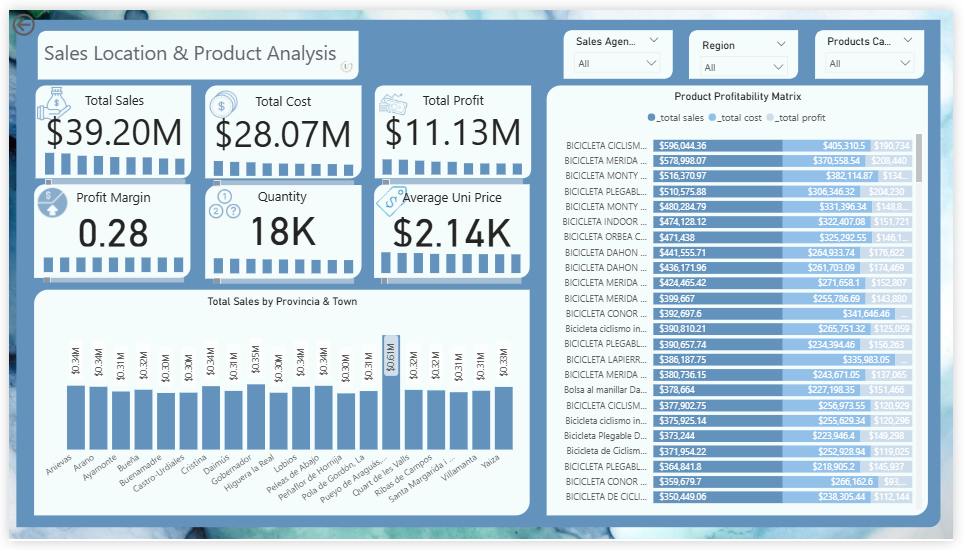

This screenshot's page, from the dashboard's own definition file:
{"tool":"powerbi","page":{"name":"Page 1","canvas":[1280,720],"ordinal":0},"visuals":[{"type":"textbox","box":[42.2,33.8,427.1,59.1],"z":0},{"type":"card","title":"Total Sales","fields":{"Values":["Sales Tiendas San Martin Janu#4._total sales"]},"box":[42.2,109.8,201.5,83.2],"z":1000},{"type":"clusteredColumnChart","fields":{"Category":["Products.Products"],"Y":["Sales Tiendas San Martin Janu#4._total sales"]},"box":[43.4,179.8,200.3,62.7],"z":2000},{"type":"card","title":"Total Cost","fields":{"Values":["Sales Tiendas San Martin Janu#4._total cost"]},"box":[271.3,111.1,201.5,83.2],"z":3000},{"type":"clusteredColumnChart","fields":{"Category":["Products.Products"],"Y":["Sales Tiendas San Martin Janu#4._total cost"]},"box":[272.5,181.1,200.3,62.7],"z":4000},{"type":"card","title":"Profit Margin","fields":{"Values":["Sales Tiendas San Martin Janu#4._profit margin"]},"box":[40.6,242.4,201.5,83.2],"z":5000},{"type":"clusteredColumnChart","fields":{"Category":["Products.Products"],"Y":["Sales Tiendas San Martin Janu#4._profit margin"]},"box":[41.9,312.3,200.3,62.7],"z":6000},{"type":"card","title":"Quantity","fields":{"Values":["Sum(Sales Tiendas San Martin Janu#4.Quanttity)"]},"box":[269.9,241.3,201.5,83.2],"z":7000},{"type":"clusteredColumnChart","fields":{"Category":["Products.Products"],"Y":["Sales Tiendas San Martin Janu#4._average delayed period"]},"box":[500,313,200,62.3],"z":8000},{"type":"card","title":"Total Profit","fields":{"Values":["Sales Tiendas San Martin Janu#4._total profit"]},"box":[501,110.1,201.5,83.2],"z":9000},{"type":"clusteredColumnChart","fields":{"Category":["Products.Products"],"Y":["Sales Tiendas San Martin Janu#4._total profit"]},"box":[502.2,180.1,200.3,62.7],"z":10000},{"type":"card","title":"Average Uni Price","fields":{"Values":["Sales Tiendas San Martin Janu#4._avg unit price"]},"box":[500,242.9,201.3,83.1],"z":11000},{"type":"clusteredColumnChart","fields":{"Category":["Products.Products"],"Y":["Sum(Sales Tiendas San Martin Janu#4.Quanttity)"]},"box":[272.6,314.3,200.3,62.7],"z":12000},{"type":"slicer","fields":{"Values":["Products.Products Category"]},"box":[1096.7,29,141.2,63.9],"z":13000},{"type":"hundredPercentStackedBarChart","title":"Total Sales | Total Profit | Total cost by Products","fields":{"Category":["Products.Products"],"Y":["Sales Tiendas San Martin Janu#4._total sales","Sales Tiendas San Martin Janu#4._total cost","Sales Tiendas San Martin Janu#4._total profit"]},"box":[733.8,109.1,509.1,574],"z":14000},{"type":"slicer","fields":{"Values":["Locations.Region"]},"box":[927.8,33.8,138.7,59.1],"z":15000},{"type":"lineStackedColumnComboChart","title":"Total Sales by Provincia & Town","fields":{"Category":["Locations.Provincia","Locations.Town"],"Y":["Sales Tiendas San Martin Janu#4._total sales"]},"box":[41,387.3,659.9,296.8],"z":16000},{"type":"slicer","fields":{"Values":["Sales Agents.Sales Agent Name"]},"box":[756.4,29,137.5,63.9],"z":17000},{"type":"actionButton","box":[0,0,100,40],"z":18000}]}

Visuals, with their boxes in screenshot pixels (x1, y1, x2, y2), scaled from the page's 1280x720 canvas onto the 964x550 screenshot:
textbox: box(32, 26, 353, 71)
"Total Sales" card: box(32, 84, 184, 147)
clusteredColumnChart - Products.Products x Sales Tiendas San Martin Janu#4._total sales: box(33, 137, 184, 185)
"Total Cost" card: box(204, 85, 356, 148)
clusteredColumnChart - Products.Products x Sales Tiendas San Martin Janu#4._total cost: box(205, 138, 356, 186)
"Profit Margin" card: box(31, 185, 182, 249)
clusteredColumnChart - Products.Products x Sales Tiendas San Martin Janu#4._profit margin: box(32, 239, 182, 286)
"Quantity" card: box(203, 184, 355, 248)
clusteredColumnChart - Products.Products x Sales Tiendas San Martin Janu#4._average delayed period: box(377, 239, 527, 287)
"Total Profit" card: box(377, 84, 529, 148)
clusteredColumnChart - Products.Products x Sales Tiendas San Martin Janu#4._total profit: box(378, 138, 529, 185)
"Average Uni Price" card: box(377, 186, 528, 249)
clusteredColumnChart - Products.Products x Sum(Sales Tiendas San Martin Janu#4.Quanttity): box(205, 240, 356, 288)
slicer - Products.Products Category: box(826, 22, 932, 71)
"Total Sales | Total Profit | Total cost by Products" hundredPercentStackedBarChart: box(553, 83, 936, 522)
slicer - Locations.Region: box(699, 26, 803, 71)
"Total Sales by Provincia & Town" lineStackedColumnComboChart: box(31, 296, 528, 523)
slicer - Sales Agents.Sales Agent Name: box(570, 22, 673, 71)
actionButton: box(0, 0, 75, 31)
